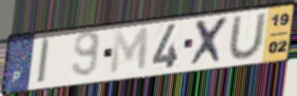4: (150, 21, 182, 71)
9: (72, 30, 102, 82)
I: (36, 36, 52, 86)
M: (108, 25, 151, 77)
U: (227, 11, 268, 61)
X: (188, 15, 232, 68)
